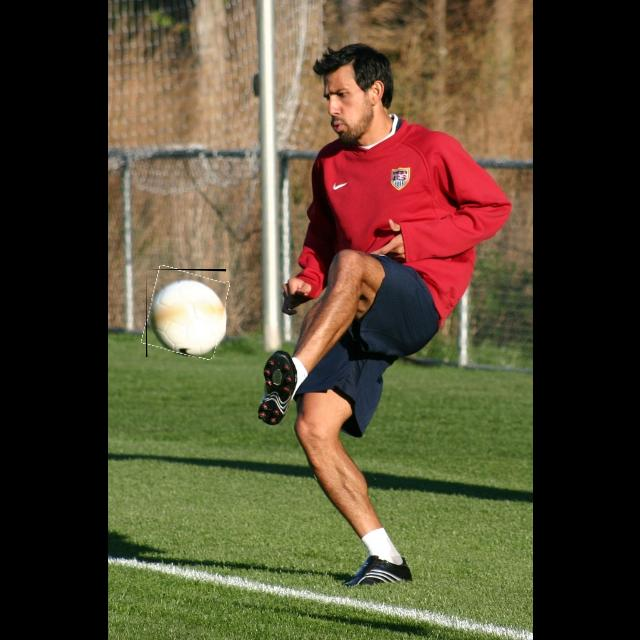Football: (146, 269, 226, 357)
